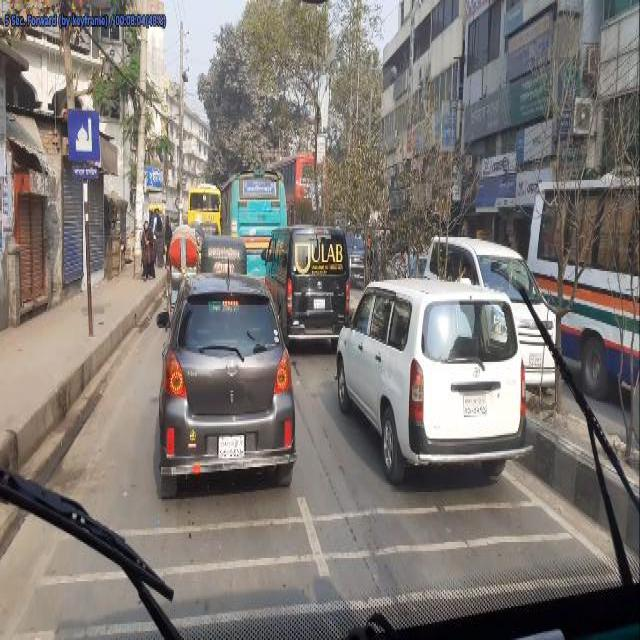vehicle: (333, 276, 535, 488), (156, 252, 298, 505), (527, 169, 640, 405), (421, 230, 561, 392), (268, 225, 352, 353), (220, 166, 288, 280), (164, 221, 203, 332), (271, 153, 330, 226), (188, 180, 223, 237), (200, 236, 249, 275), (342, 228, 369, 287)
